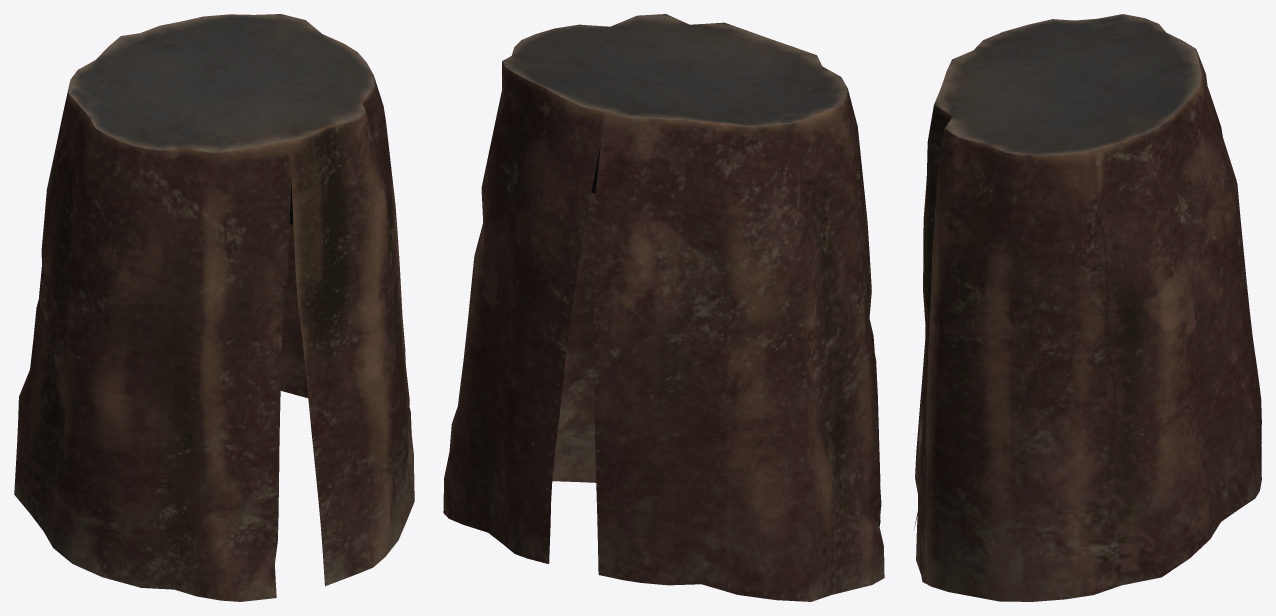
File: clo_cts_rohan_armor3.fbx
The picture shows the model from 3 angles, left to right: view 1: azimuth 30°, elevation 25°; view 2: azimuth 150°, elevation 25°; view 3: azimuth 270°, elevation 25°; orthographic projection. The views are drawn at different scales.
Parts seen in each view (by area): view 1: clo_cts_rohan_armor3; view 2: clo_cts_rohan_armor3; view 3: clo_cts_rohan_armor3.
Part boxes in pixels (x1,y1,x2,y2): clo_cts_rohan_armor3: (14,14,414,601); clo_cts_rohan_armor3: (443,14,884,601); clo_cts_rohan_armor3: (913,14,1261,601).
Size of the model in its own units: 0.4832 by 0.4081 by 0.6168.
1 material, 1 textured.
